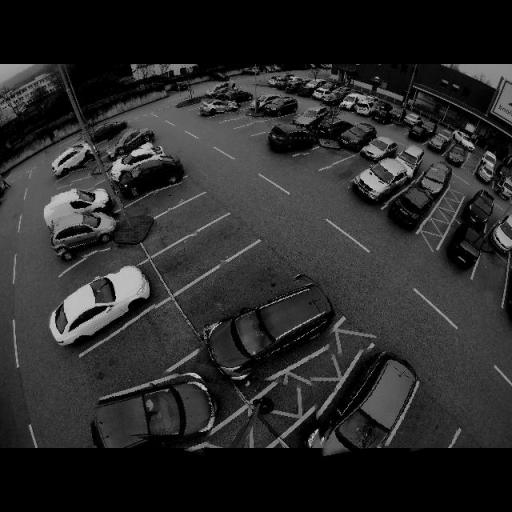busy: (200, 266, 338, 386), (310, 345, 431, 452), (95, 363, 220, 448), (47, 266, 156, 342), (47, 202, 118, 260), (348, 156, 414, 206), (119, 158, 183, 198), (51, 186, 114, 218), (388, 184, 433, 227), (266, 122, 314, 154), (450, 222, 482, 268), (113, 146, 162, 176), (46, 145, 92, 175), (463, 190, 497, 226), (108, 129, 153, 156), (413, 163, 449, 194), (489, 209, 512, 252), (360, 137, 397, 162), (337, 124, 372, 150), (198, 98, 240, 118), (293, 106, 329, 128), (91, 122, 128, 140), (444, 141, 470, 166), (262, 97, 294, 116), (316, 118, 348, 136), (472, 159, 494, 183), (426, 134, 451, 154), (494, 174, 511, 199), (354, 100, 376, 116), (322, 92, 344, 106), (339, 95, 359, 110), (208, 82, 232, 94), (268, 76, 289, 89), (371, 110, 389, 124), (285, 79, 304, 92), (310, 88, 330, 100), (298, 86, 314, 96)
free: (403, 409, 458, 450), (119, 330, 172, 366), (212, 272, 264, 308), (184, 235, 227, 264), (164, 210, 200, 235), (86, 251, 122, 274), (477, 260, 504, 286), (154, 187, 184, 208), (70, 174, 96, 198), (307, 151, 333, 169), (67, 164, 88, 185), (387, 124, 408, 138), (340, 164, 360, 178), (252, 120, 272, 132), (224, 107, 237, 122), (235, 116, 253, 126)
